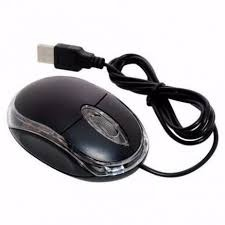mouse: (7, 72, 153, 190)
